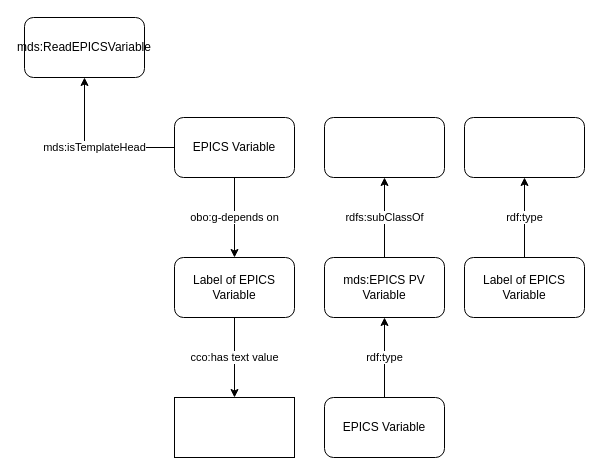
This 602x475 diagram has some shape labels left out. The shapes that lost their labels are listed below. From the top down, each one's centre as x and y in pixels, then its label:
the point at 384,147: cco:Code Identifier
the point at 524,147: cco:IBE
the point at 234,427: "Value"^^xsd:string
